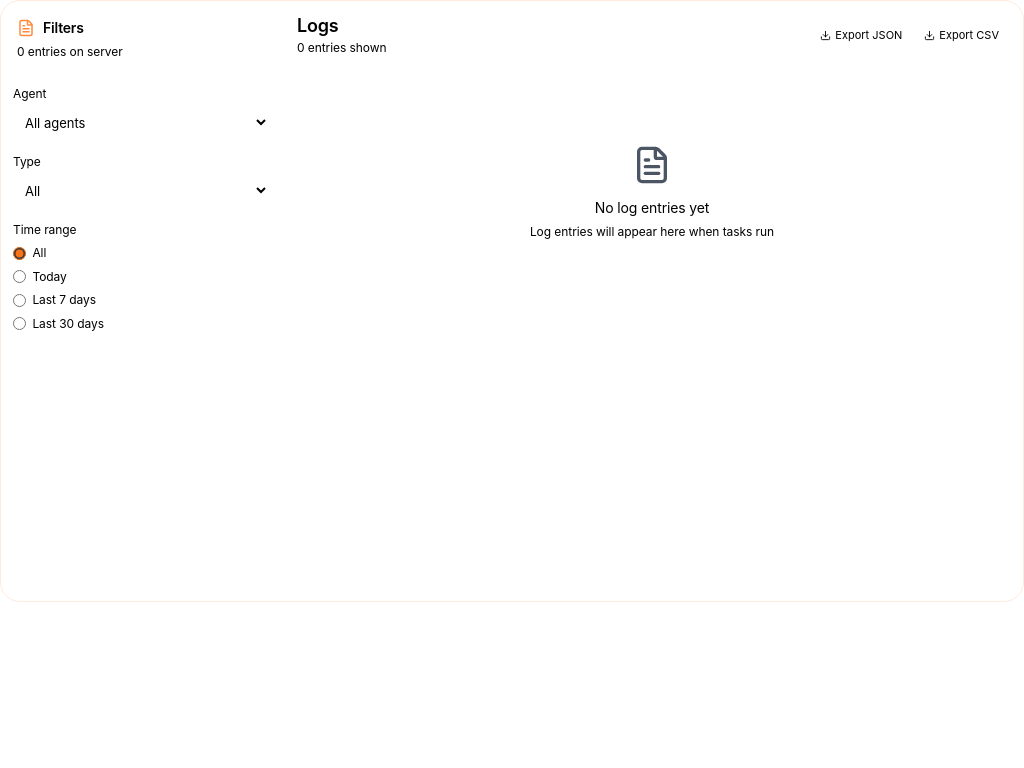
Test: LogViewer › filters › shows Clear filters button when any filter is active
Select "task" in the dropdown labelled "Type" at (141, 191), box left=13, top=176, right=269, bottom=205
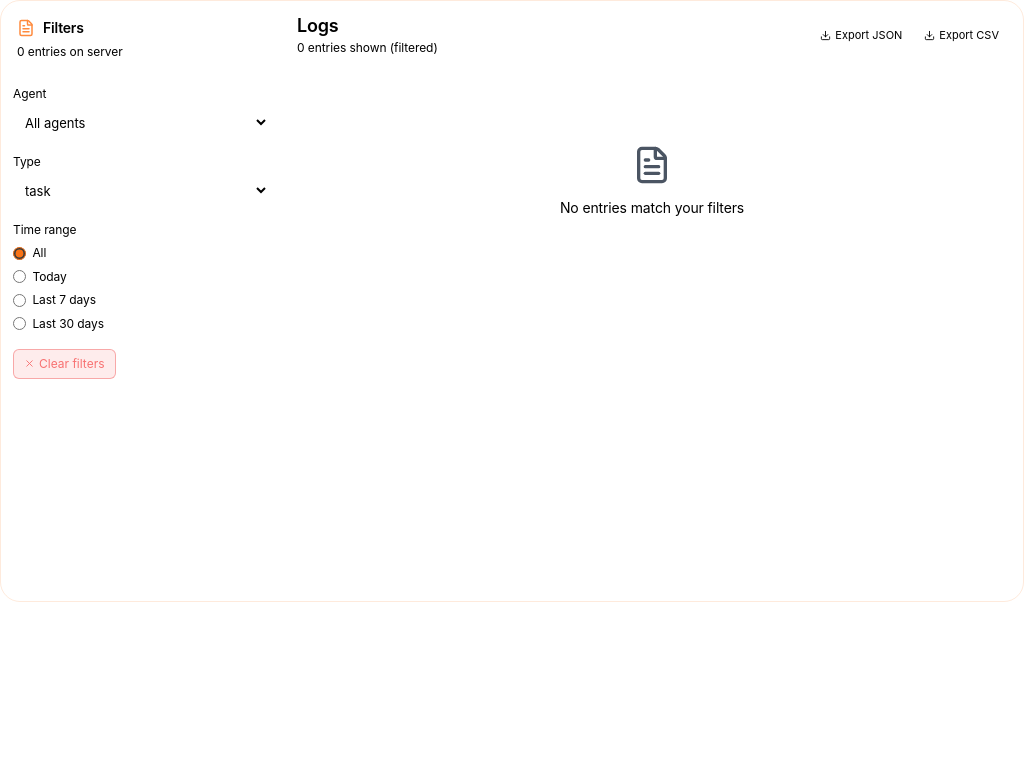
Check: the button "Clear filters" is shown, box left=13, top=349, right=116, bottom=378
